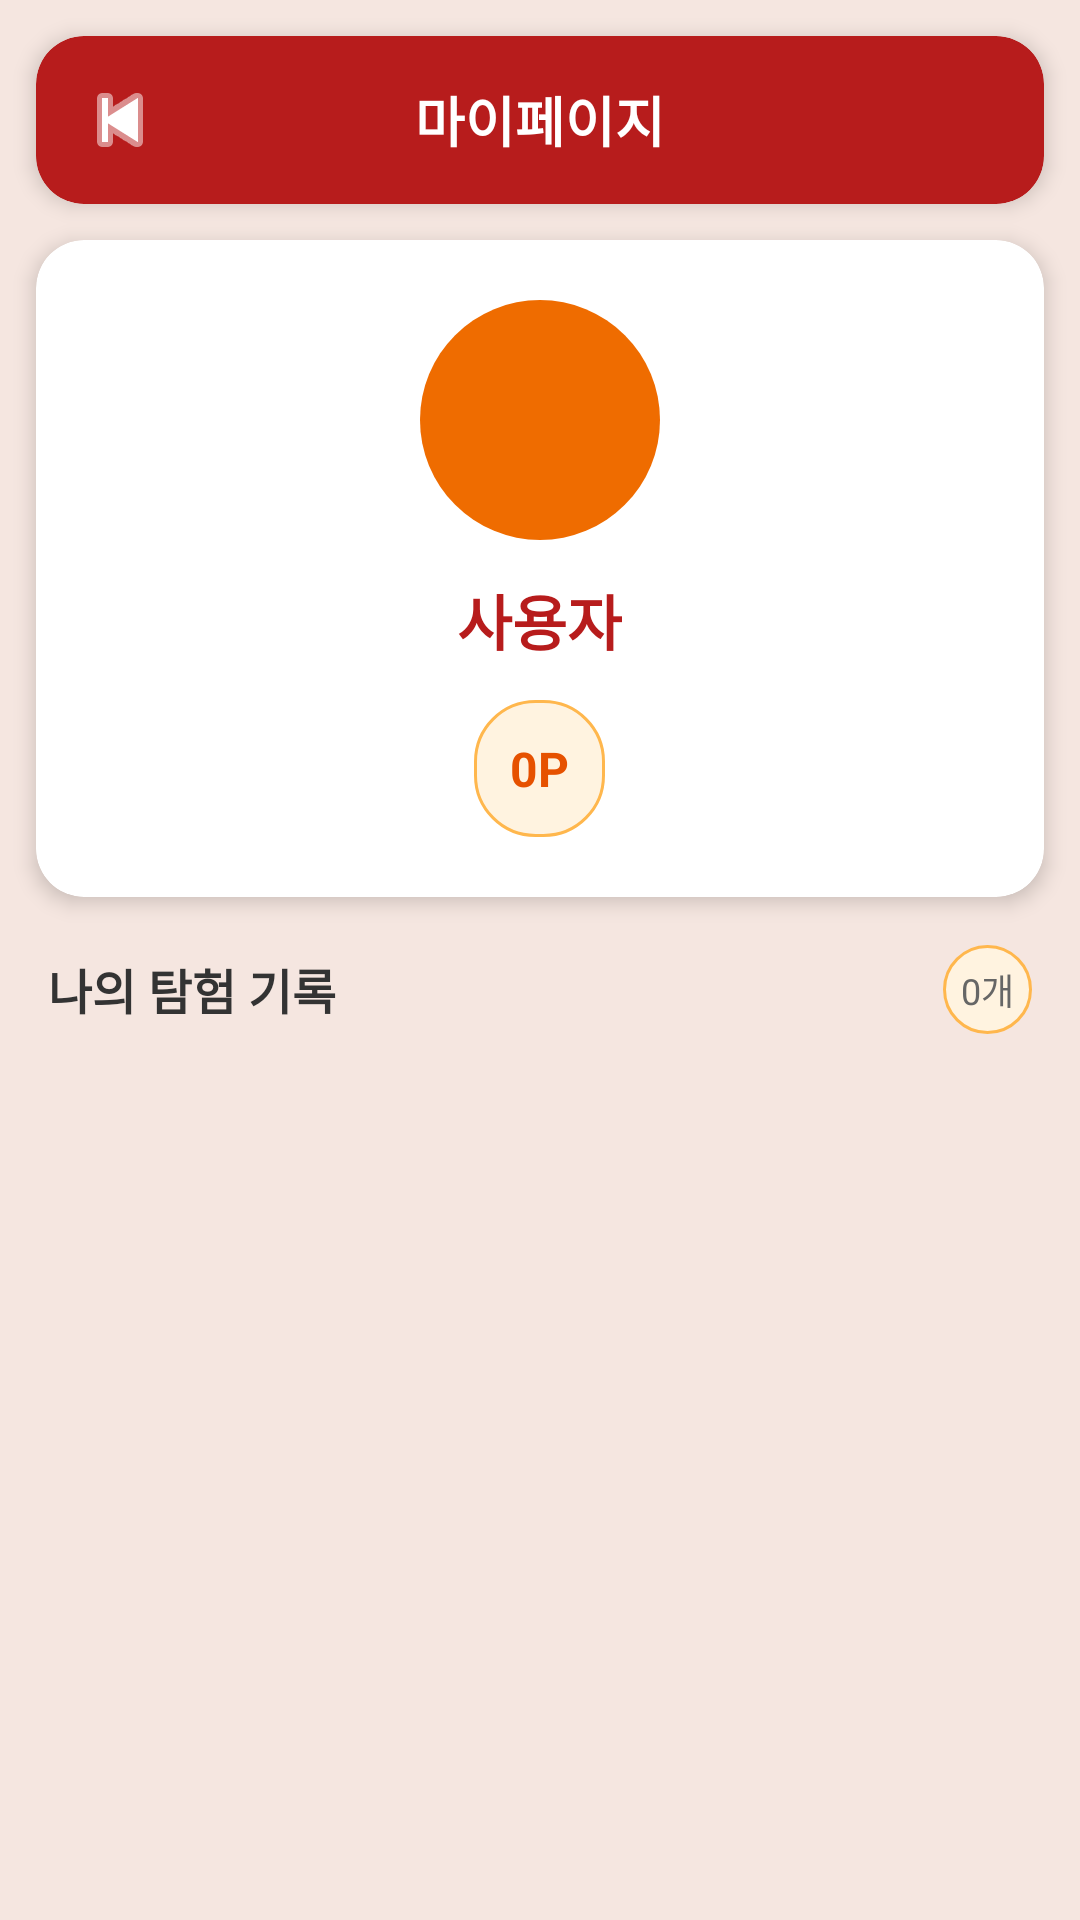

Locate icon controls on the screen. Image size 1080 × 1920, boxes as (x1,y1,x2,y2).
previous: (97,93,143,147)
